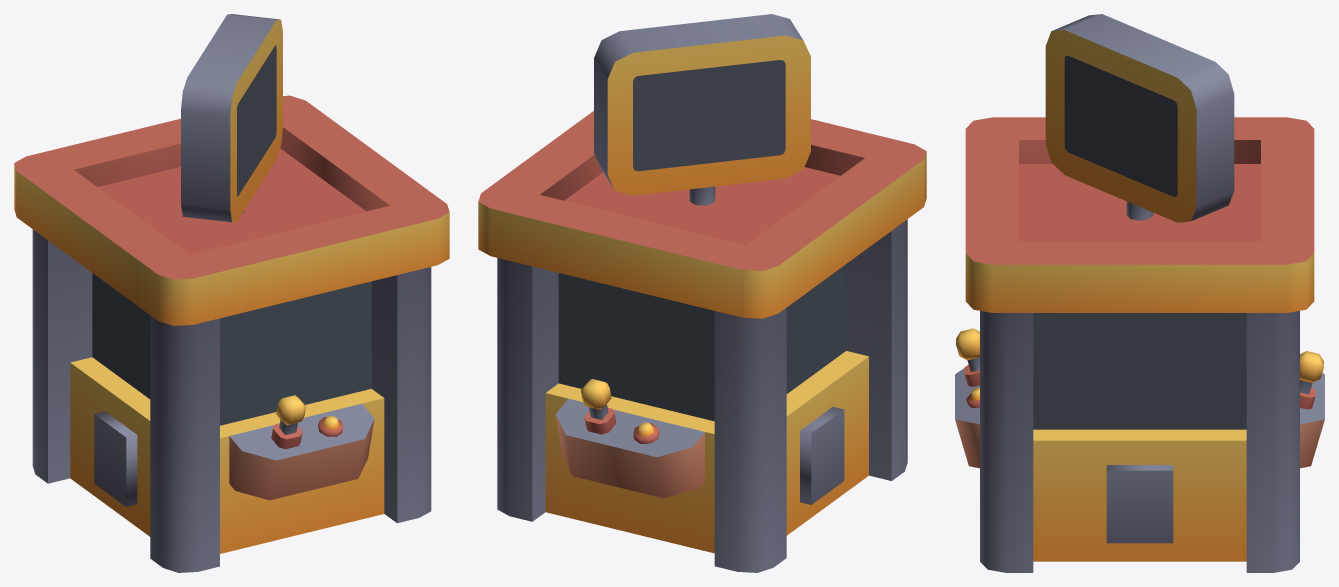
File: claw-machine.obj
3 views of the same model, side by side, from view 1: azimuth 30°, elevation 25°; view 2: azimuth 150°, elevation 25°; view 3: azimuth 270°, elevation 25° (orthographic). The views are drawn at different scales.
Parts seen in each view (by area): view 1: claw-machine, (%ignore), rotate-y; view 2: claw-machine, rotate-y, (%ignore); view 3: claw-machine, rotate-y, (%ignore).
Part boxes in pixels (bbox=[...]): claw-machine: bbox=[14, 95, 449, 572]; (%ignore): bbox=[92, 273, 371, 425]; rotate-y: bbox=[181, 14, 282, 222]; claw-machine: bbox=[478, 111, 926, 572]; rotate-y: bbox=[594, 14, 810, 195]; (%ignore): bbox=[558, 264, 846, 421]; claw-machine: bbox=[955, 117, 1324, 572]; rotate-y: bbox=[1045, 14, 1234, 222]; (%ignore): bbox=[1033, 313, 1246, 429].
Bounding box in the file's own units: 0.653 × 0.95 × 0.6932.
